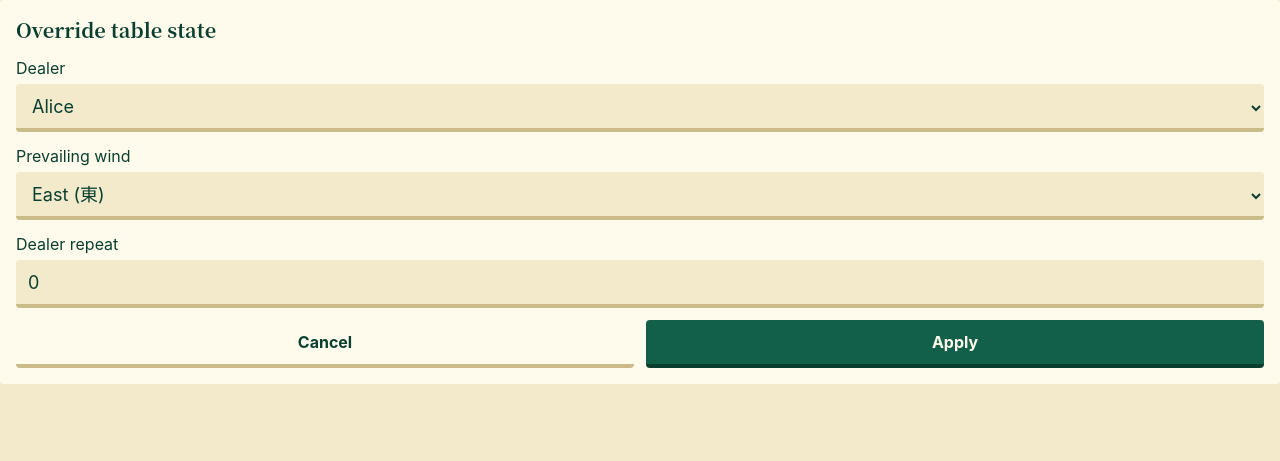
Test: OverrideSheet › rejects an out-of-range dealer repeat
Replace the text in the number field labelled "Dealer repeat" with "-1": (640, 284) left=16, top=260, right=1264, bottom=308
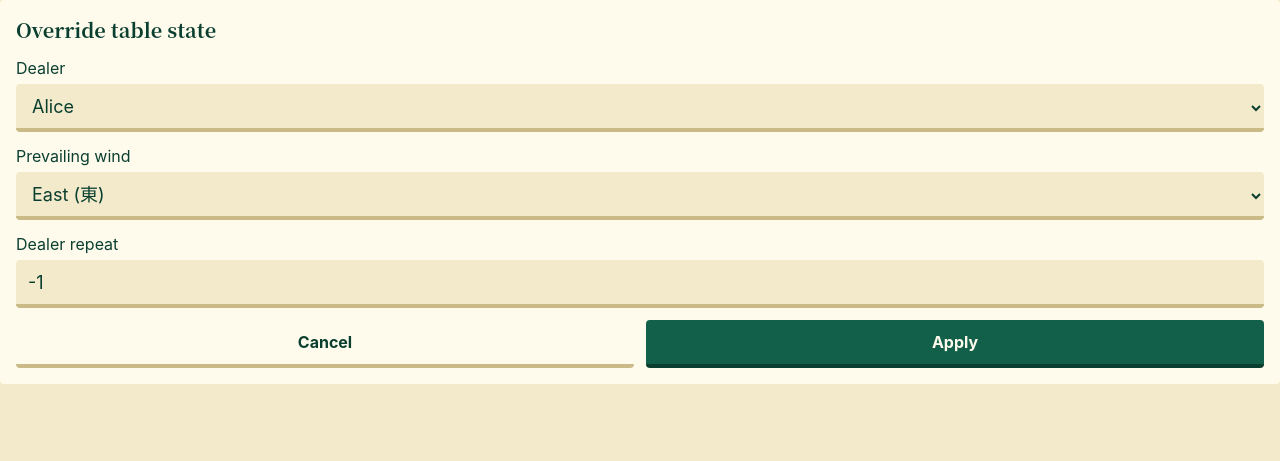
Click the button "Apply": click(955, 344) left=646, top=320, right=1264, bottom=368
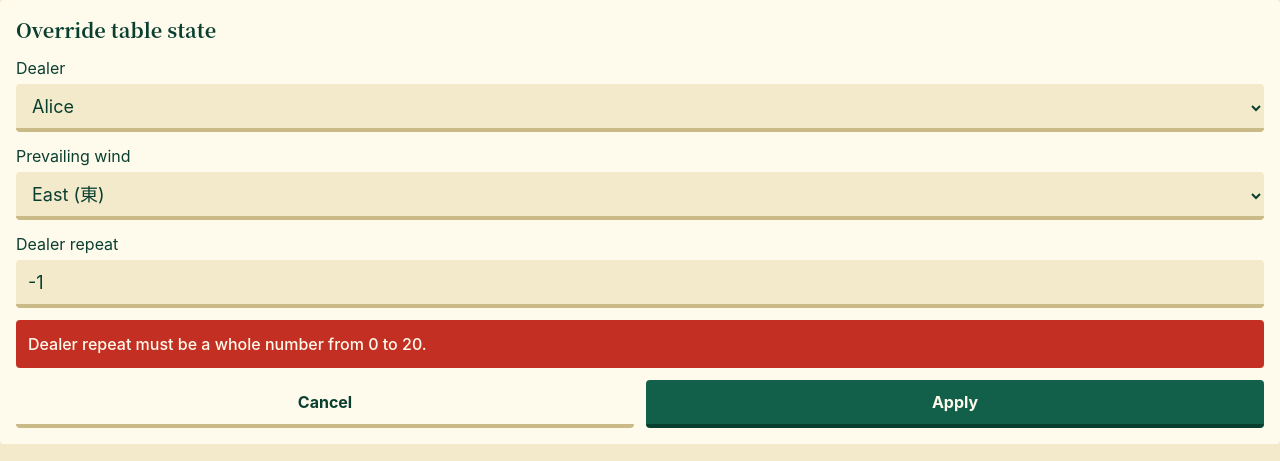
Now the message "Dealer repeat must be a whole number from 0 to 20." is shown, box left=16, top=320, right=1264, bottom=368
